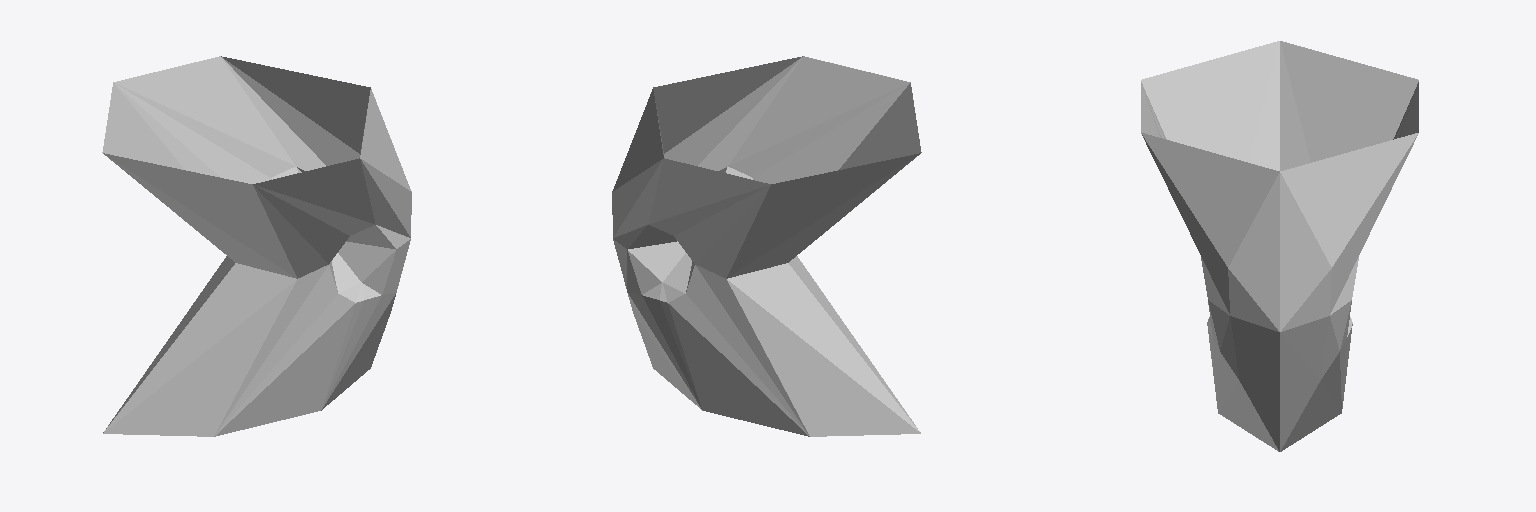
The model's file is carbon_leg_mid.obj.
The picture shows the model from 3 angles: view 1: azimuth 30°, elevation 25°; view 2: azimuth 150°, elevation 25°; view 3: azimuth 270°, elevation 25°; orthographic projection.
Parts seen in each view (by area): view 1: CarbonLegMid; view 2: CarbonLegMid; view 3: CarbonLegMid.
Boxes of the visible parts, <box> form: CarbonLegMid: <box>102,56,411,436</box>; CarbonLegMid: <box>612,56,921,436</box>; CarbonLegMid: <box>1141,41,1418,451</box>.
Bounding box in the file's own units: 2.29 × 2 × 1.8.